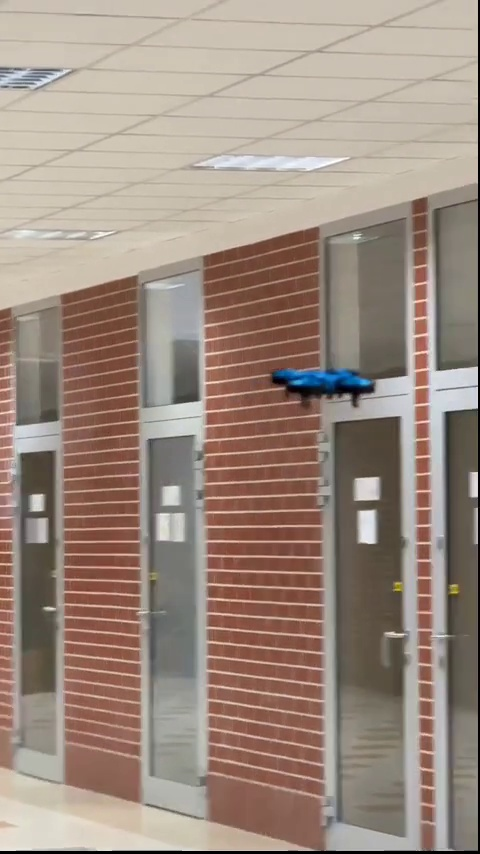drone: (276, 361, 377, 406)
